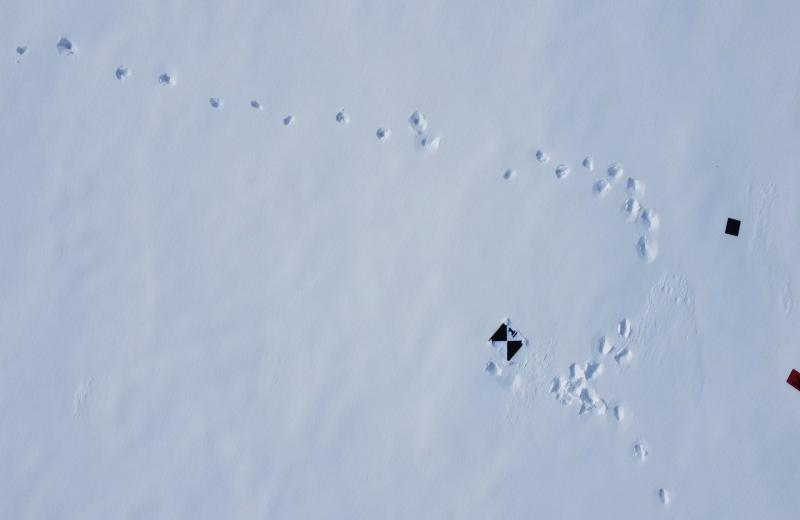Rectangle: (784, 362, 800, 397)
Square: (722, 217, 744, 243)
